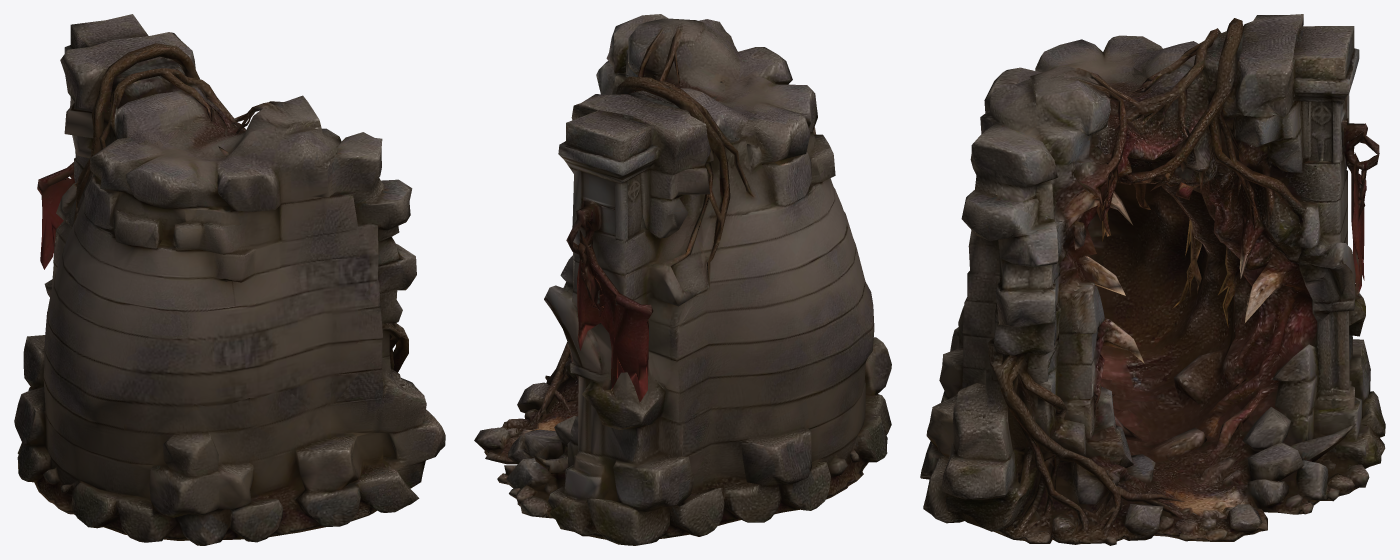
File: burrowed-wall-breach-plug.glb
The picture shows the model from 3 angles, left to right: view 1: azimuth 30°, elevation 25°; view 2: azimuth 150°, elevation 25°; view 3: azimuth 270°, elevation 25°; orthographic projection. The views are drawn at different scales.
Visible parts, largest first — view 1: tripo_node_b83b06db-9b84-4e4a-a672-fc121d69398a; view 2: tripo_node_b83b06db-9b84-4e4a-a672-fc121d69398a; view 3: tripo_node_b83b06db-9b84-4e4a-a672-fc121d69398a.
Boxes of the visible parts, x1,y1,x2,y2 form: tripo_node_b83b06db-9b84-4e4a-a672-fc121d69398a: [14, 14, 445, 545]; tripo_node_b83b06db-9b84-4e4a-a672-fc121d69398a: [474, 14, 891, 545]; tripo_node_b83b06db-9b84-4e4a-a672-fc121d69398a: [920, 14, 1385, 545].
Bounding box in the file's own units: 0.8643 × 1 × 0.9897.
Materials: 1 (1 with a texture image).
